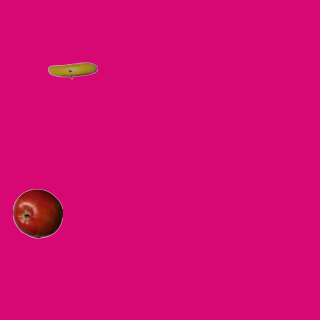Apple Braeburn: (12, 188, 62, 238)
Banana: (47, 45, 97, 95)
